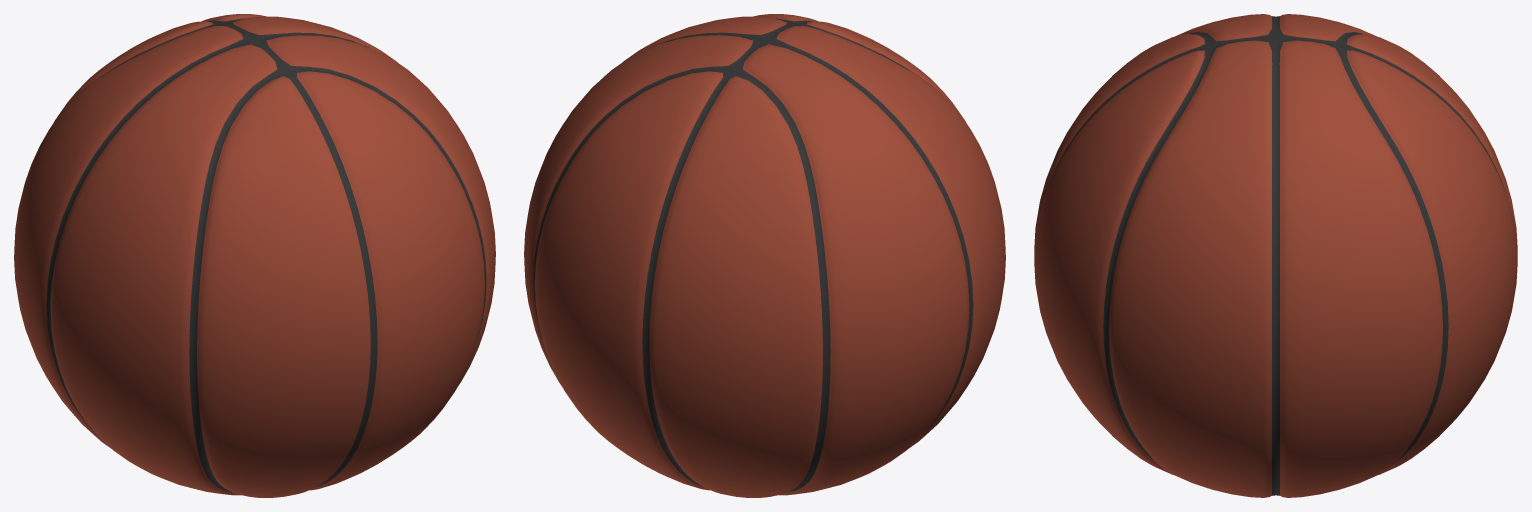
File: Ball_Basket_HighPoly.fbx
3 views of the same model, side by side, from view 1: azimuth 30°, elevation 25°; view 2: azimuth 150°, elevation 25°; view 3: azimuth 270°, elevation 25° (orthographic).
Visible parts, largest first — view 1: HighPoly2; view 2: HighPoly2; view 3: HighPoly2.
Part boxes in pixels (x1=…): HighPoly2: x1=14, y1=14, x2=495, y2=497; HighPoly2: x1=524, y1=14, x2=1005, y2=497; HighPoly2: x1=1034, y1=14, x2=1517, y2=497.
Size of the model in its own units: 162 by 162 by 162.
